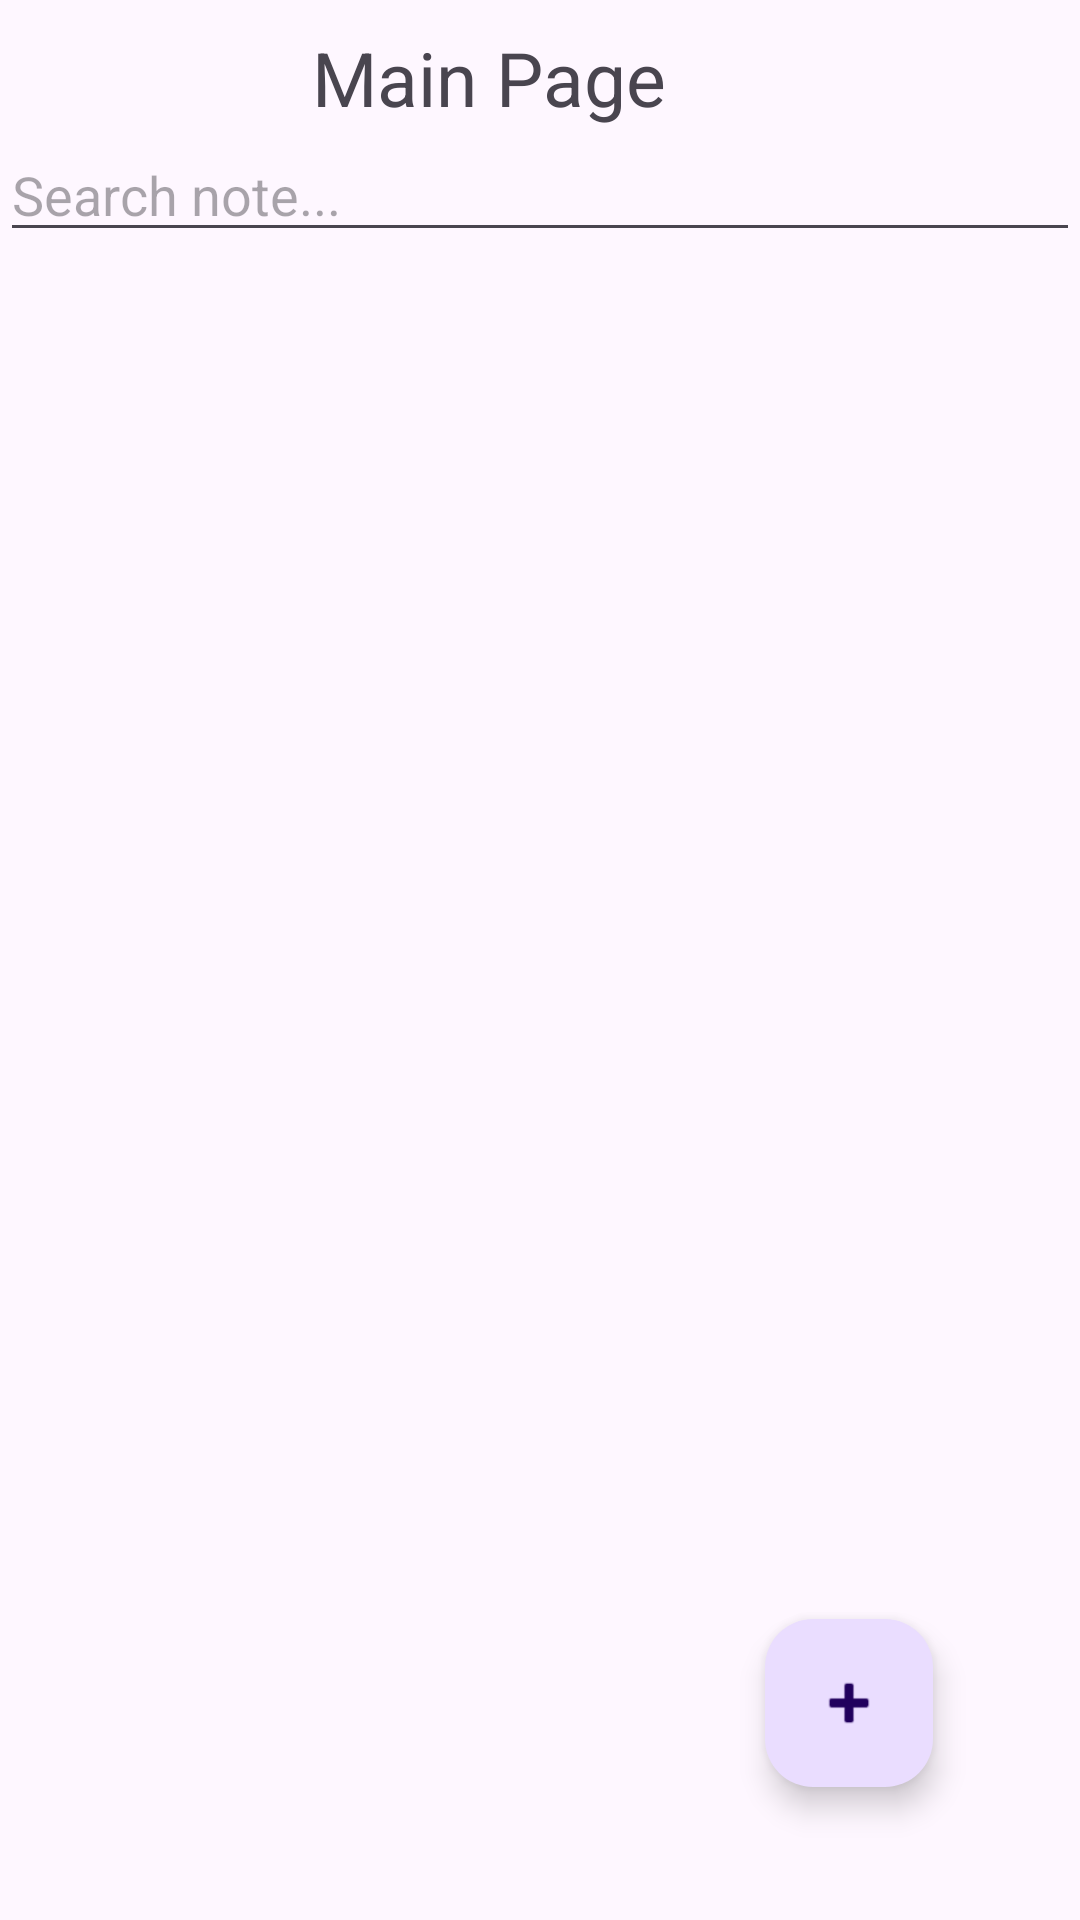

Where to tap for icons on this 1080 x 1920 app screen, as (x,y):
add: (849,1703)
